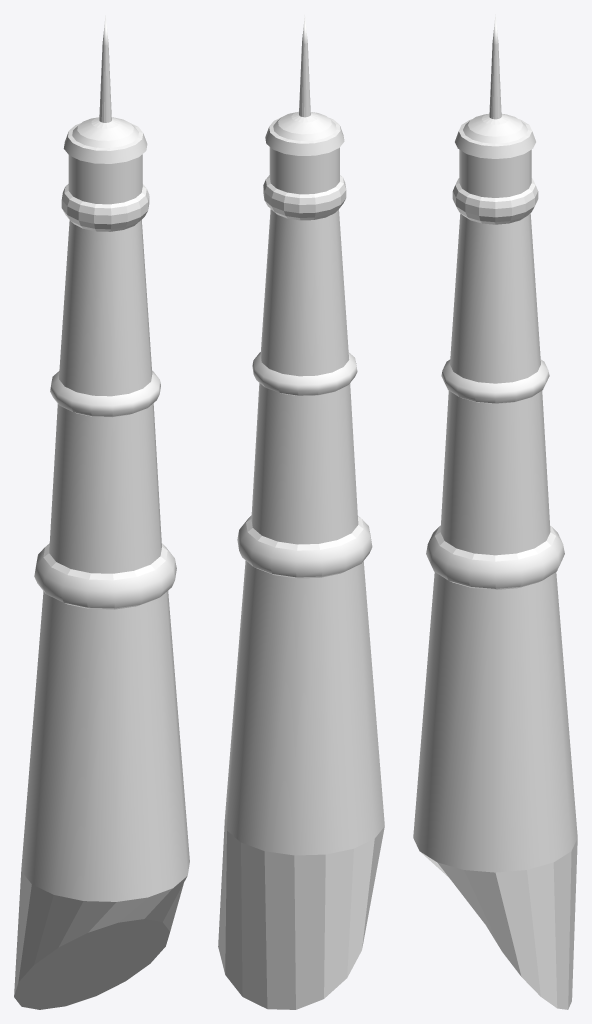
The model's file is Minneret.fbx.
3 renders of one model, left to right at view 1: azimuth 30°, elevation 25°; view 2: azimuth 150°, elevation 25°; view 3: azimuth 270°, elevation 25°, orthographic. The views are drawn at different scales.
Parts seen in each view (by area): view 1: pCylinder3; view 2: pCylinder3; view 3: pCylinder3.
Part boxes in pixels (left/top/right/bottom): pCylinder3: left=14, top=15, right=189, bottom=1009; pCylinder3: left=218, top=15, right=384, bottom=1009; pCylinder3: left=413, top=14, right=577, bottom=1009.
Bounding box in the file's own units: 2 × 13.24 × 2.
